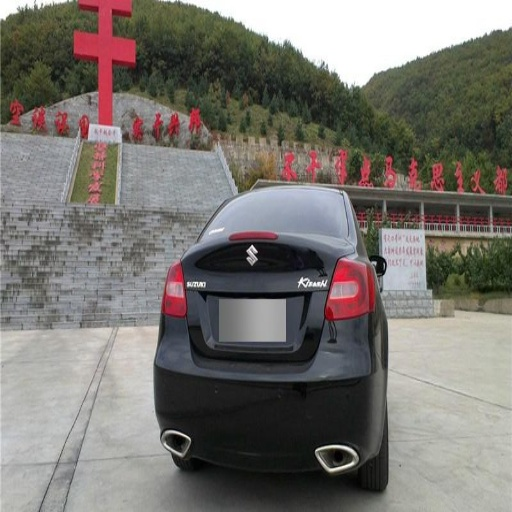back_bumper: (150, 313, 386, 473)
